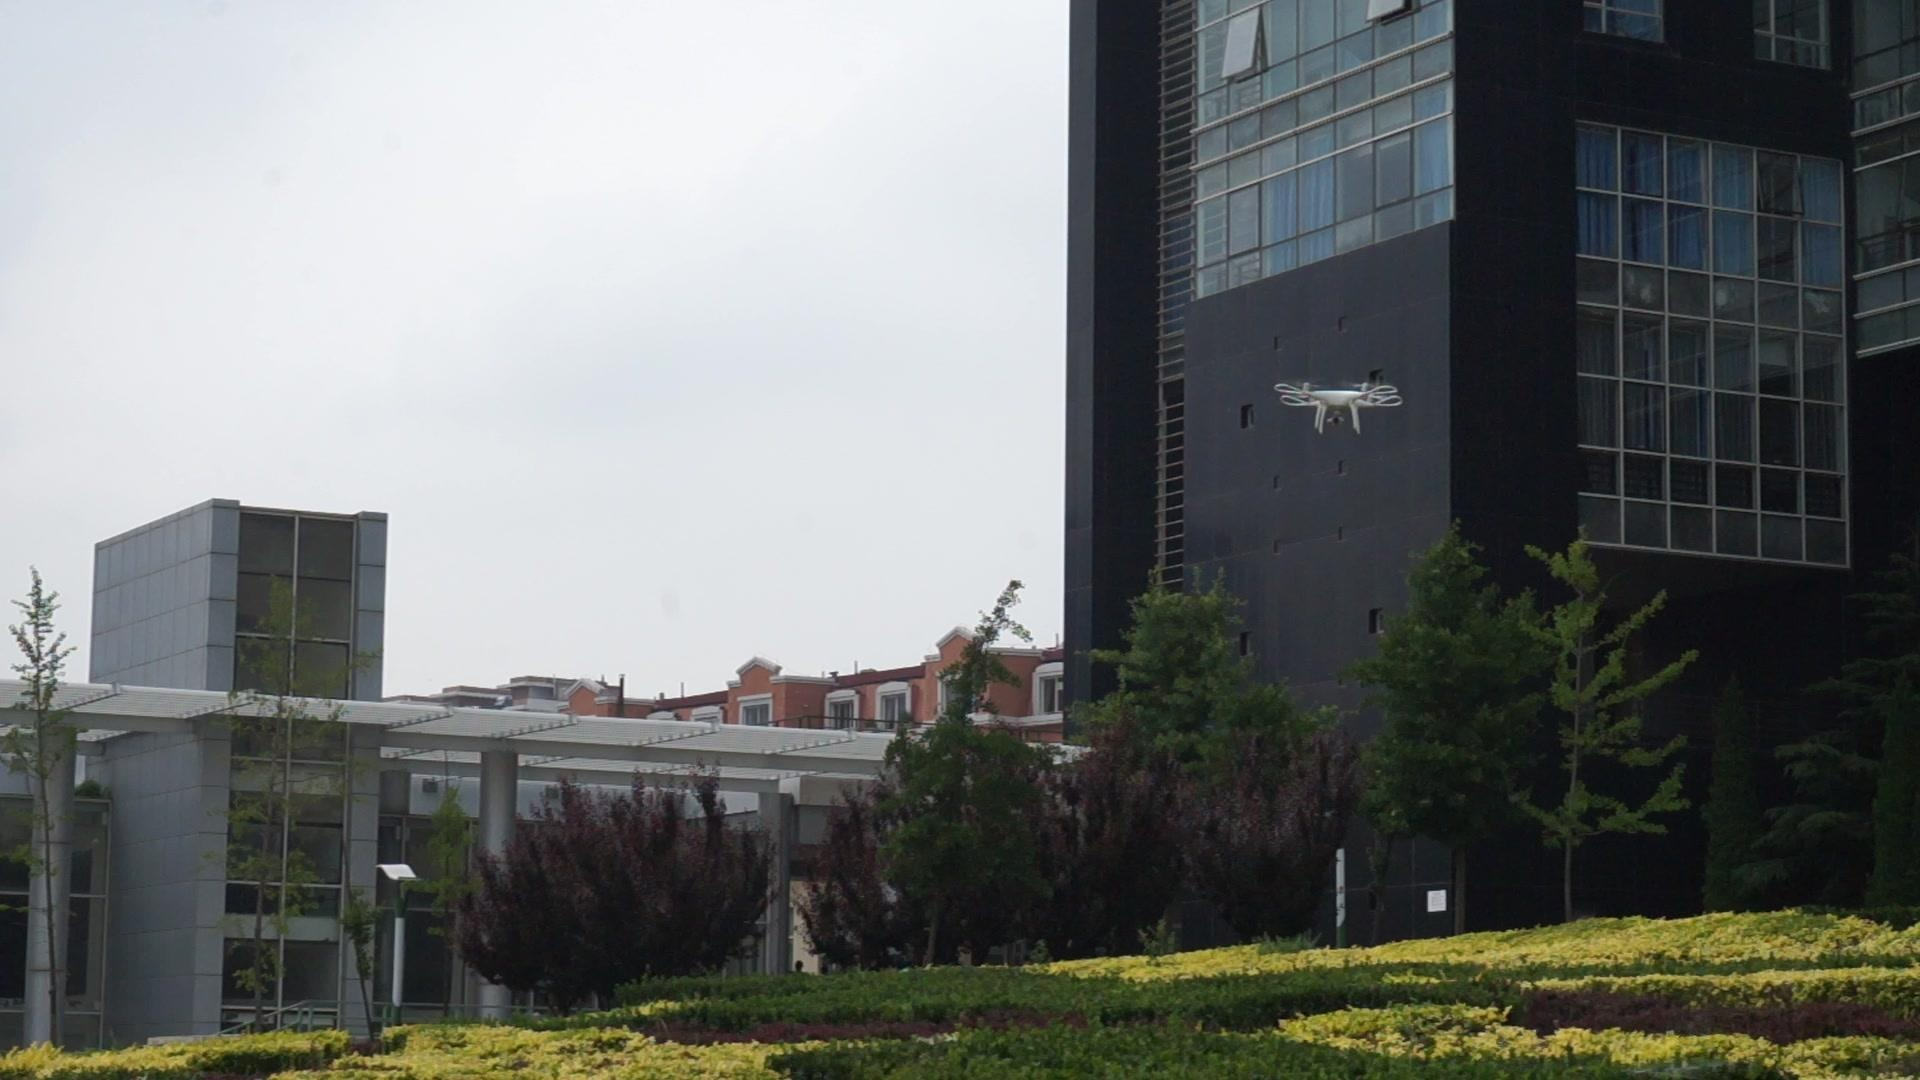UAV: (1273, 382, 1404, 435)
